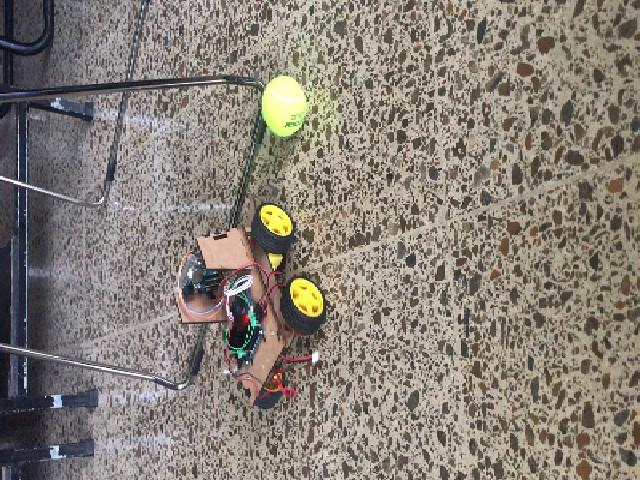Ball: (261, 74, 306, 137)
Robot: (173, 203, 323, 409)
